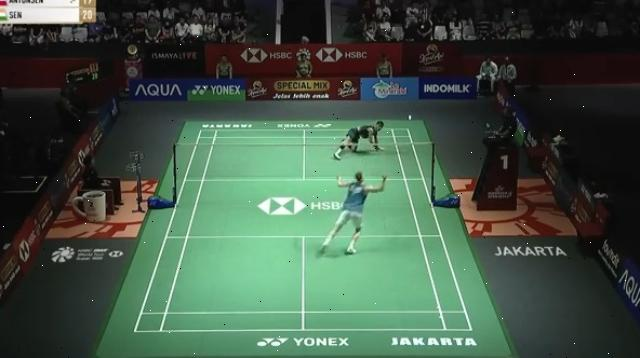Shuttlecock: (406, 112, 416, 122)
